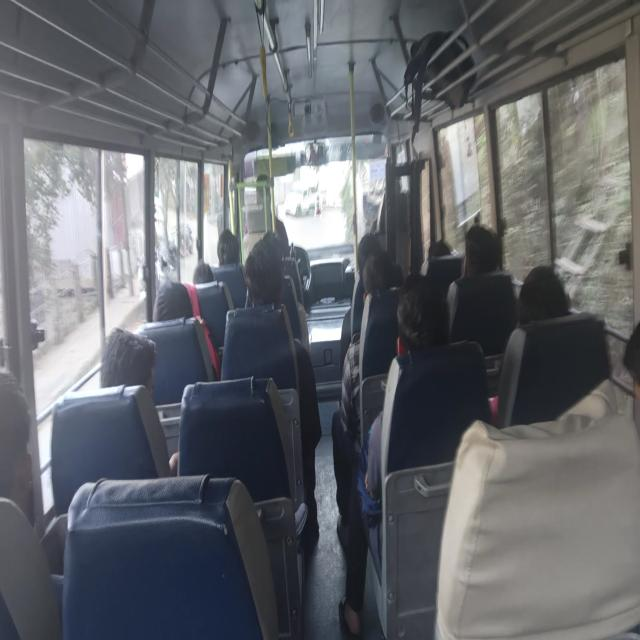person: (338, 272, 451, 637), (242, 231, 322, 543), (332, 249, 402, 546), (497, 264, 618, 428), (0, 370, 66, 577), (100, 326, 178, 476), (446, 223, 517, 356), (339, 232, 383, 376), (0, 370, 34, 524), (100, 326, 157, 395), (152, 260, 215, 322), (517, 264, 571, 325), (622, 320, 640, 400), (217, 229, 240, 266), (192, 260, 215, 284)
